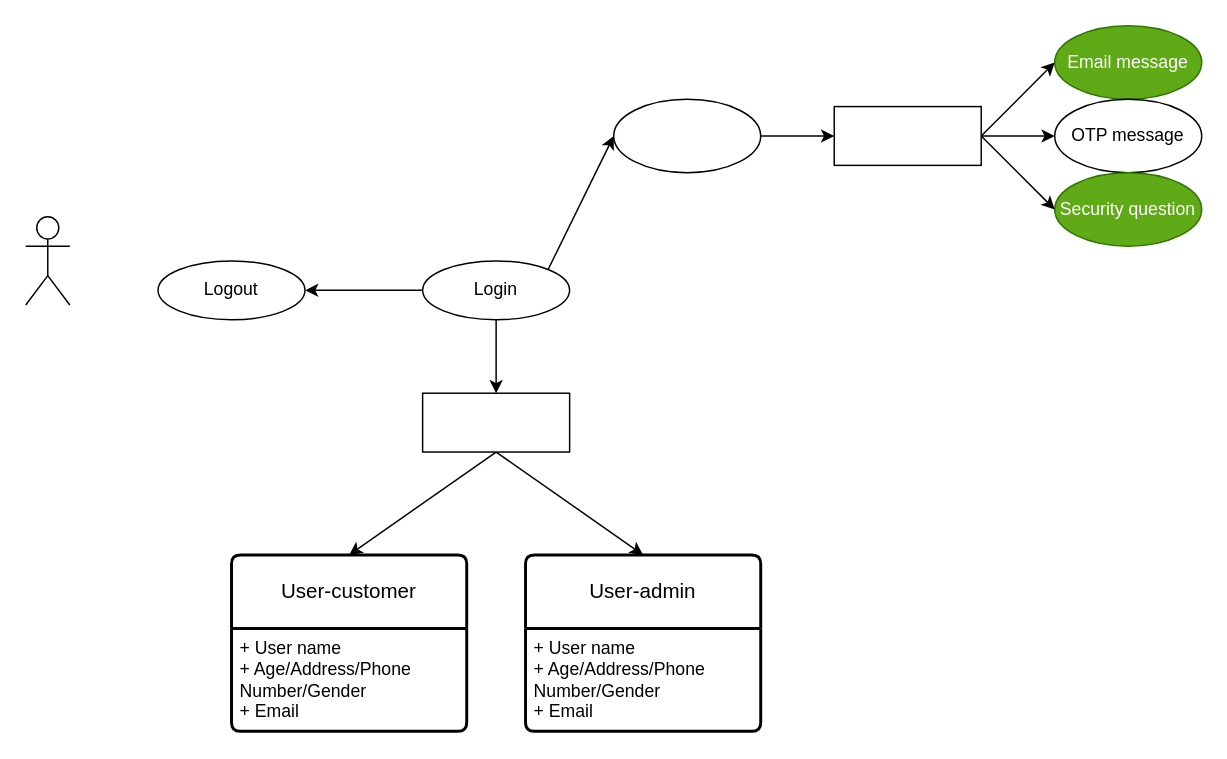
The diagram is 1227 pixels wide and 759 high, and some of its shapes have lost their labels. The shapes that lost their labels are listed below. From the top down, each one's centre as x and y in pixels, then its label:
At point 686,135: "Forgot password".
At point 907,135: "Option".
At point 47,260: "Actor".
At point 495,422: "Nescessary Information".
